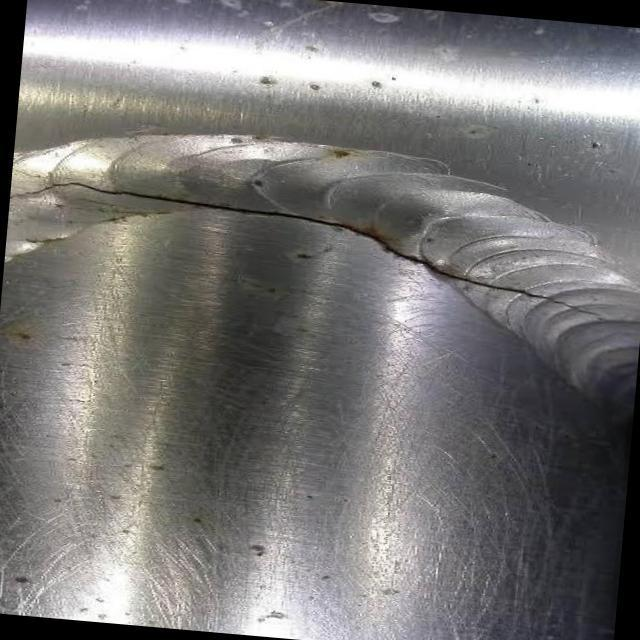defect: (10, 178, 618, 322)
